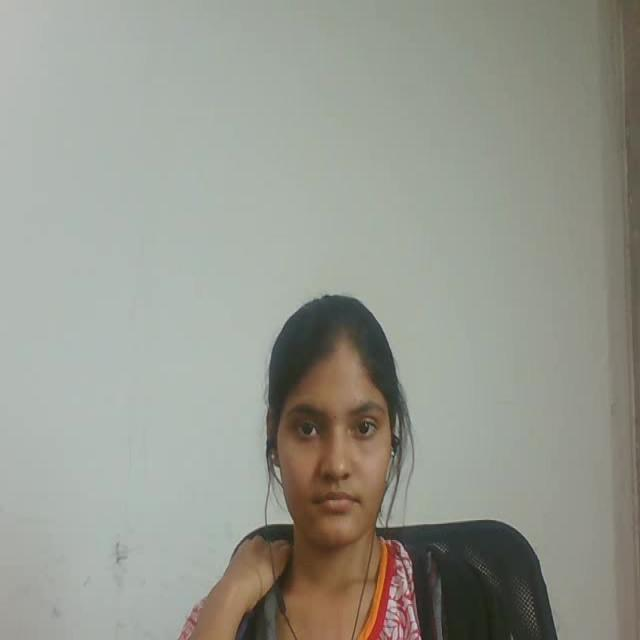Engaged: (251, 264, 429, 580)
